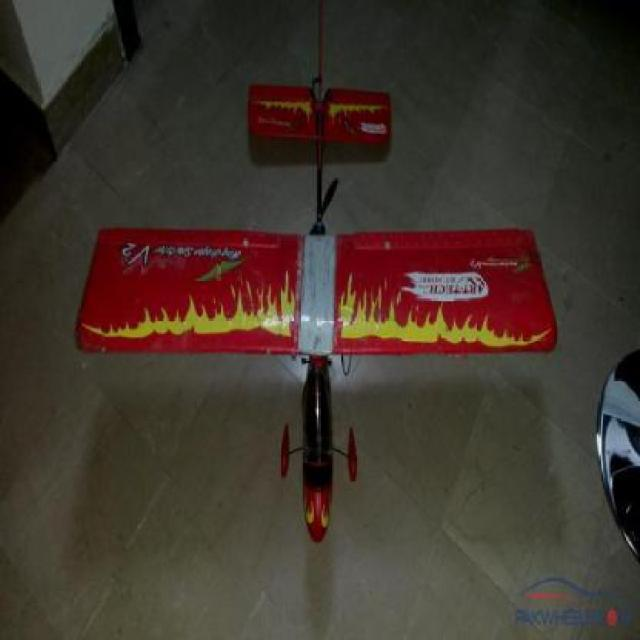iha: (81, 32, 562, 542)
